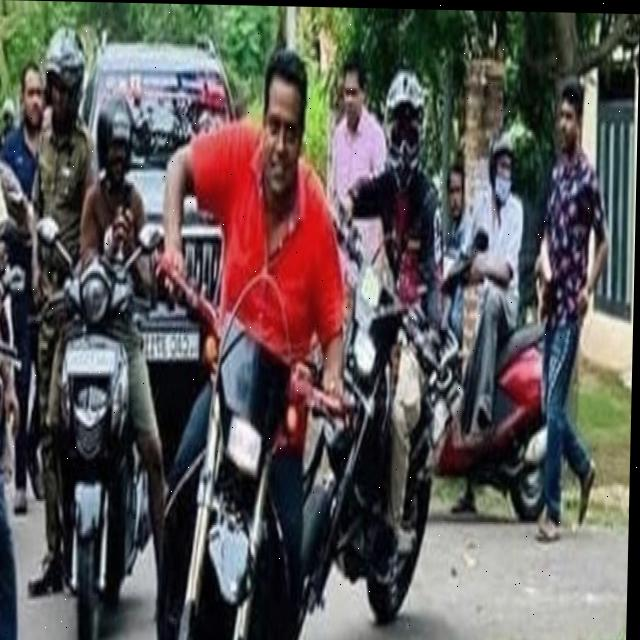without helmet: (242, 50, 310, 204)
